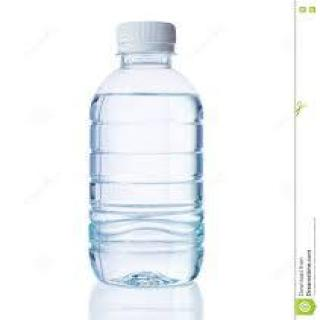Plastic-bottle: (86, 20, 210, 290)
